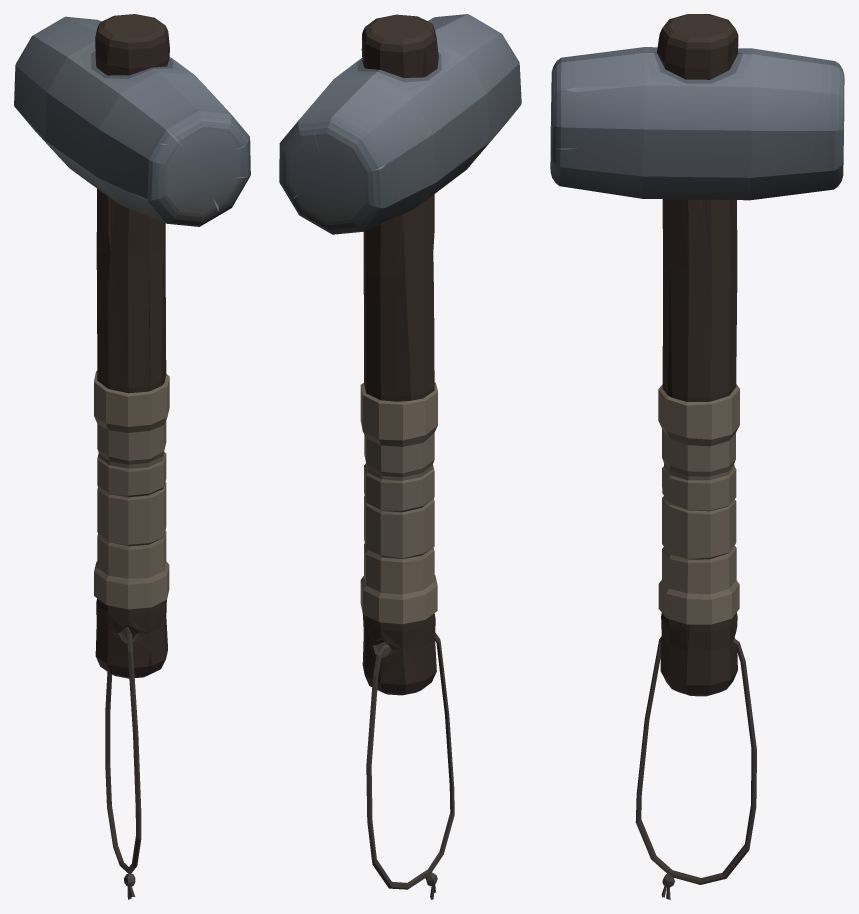
The model's file is bluntLightSmallMaul.glb.
The picture shows the model from 3 angles, left to right: view 1: azimuth 30°, elevation 25°; view 2: azimuth 150°, elevation 25°; view 3: azimuth 270°, elevation 25°; orthographic projection. The views are drawn at different scales.
Parts seen in each view (by area): view 1: bluntLightSmallMaul; view 2: bluntLightSmallMaul; view 3: bluntLightSmallMaul.
Part boxes in pixels (left/top/right/bottom): bluntLightSmallMaul: left=14, top=14, right=250, bottom=899; bluntLightSmallMaul: left=279, top=14, right=521, bottom=899; bluntLightSmallMaul: left=550, top=14, right=844, bottom=899.
Bounding box in the file's own units: 0.098 × 0.6574 × 0.1984.
